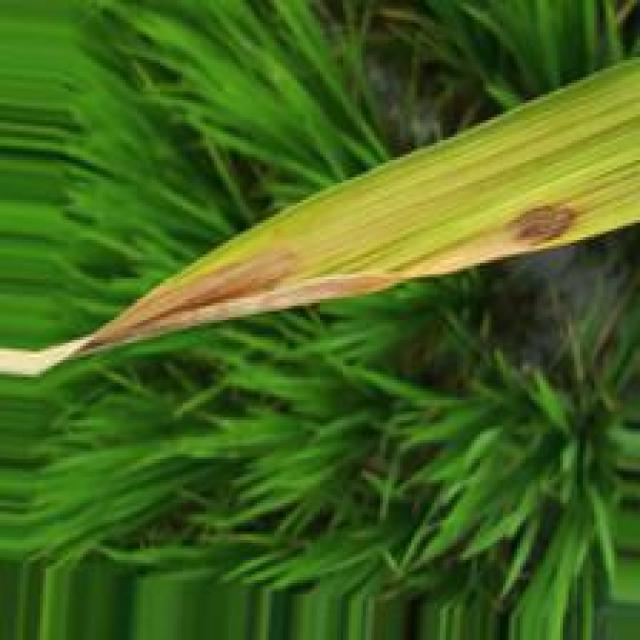Leaf_Scald: (75, 238, 404, 352), (501, 202, 585, 250)
